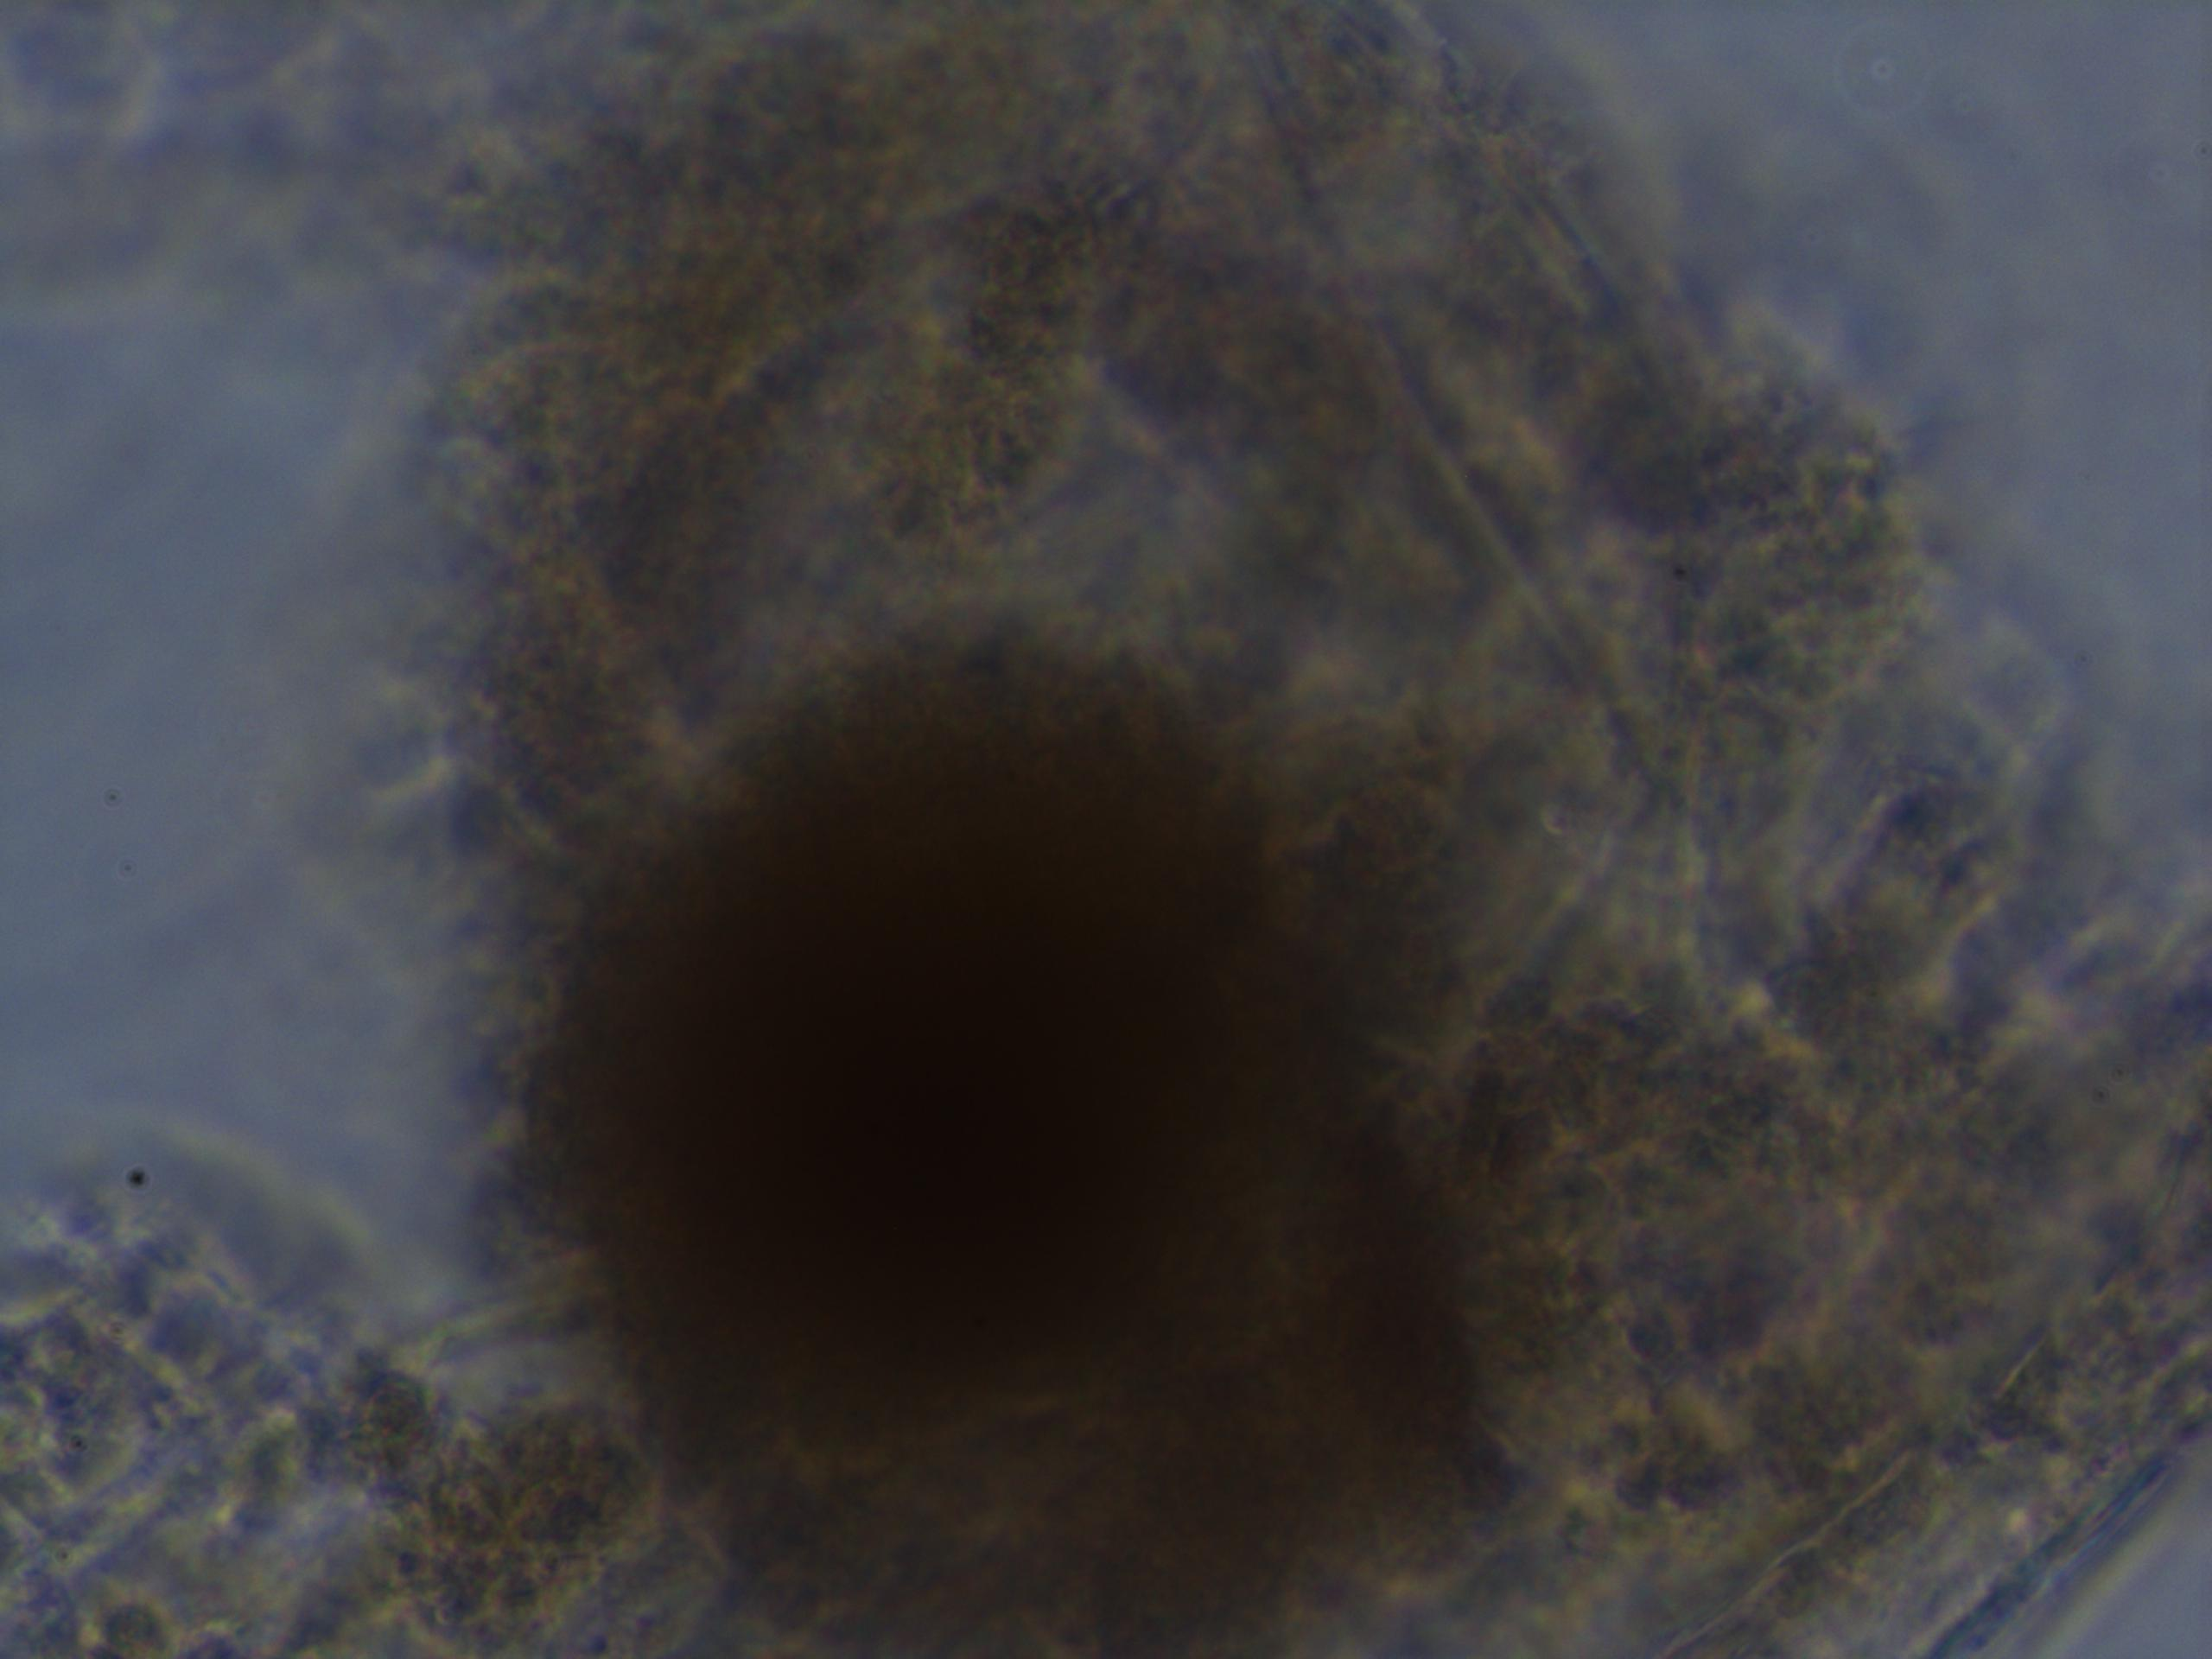spherical_floc: (486, 615, 1534, 1652)
